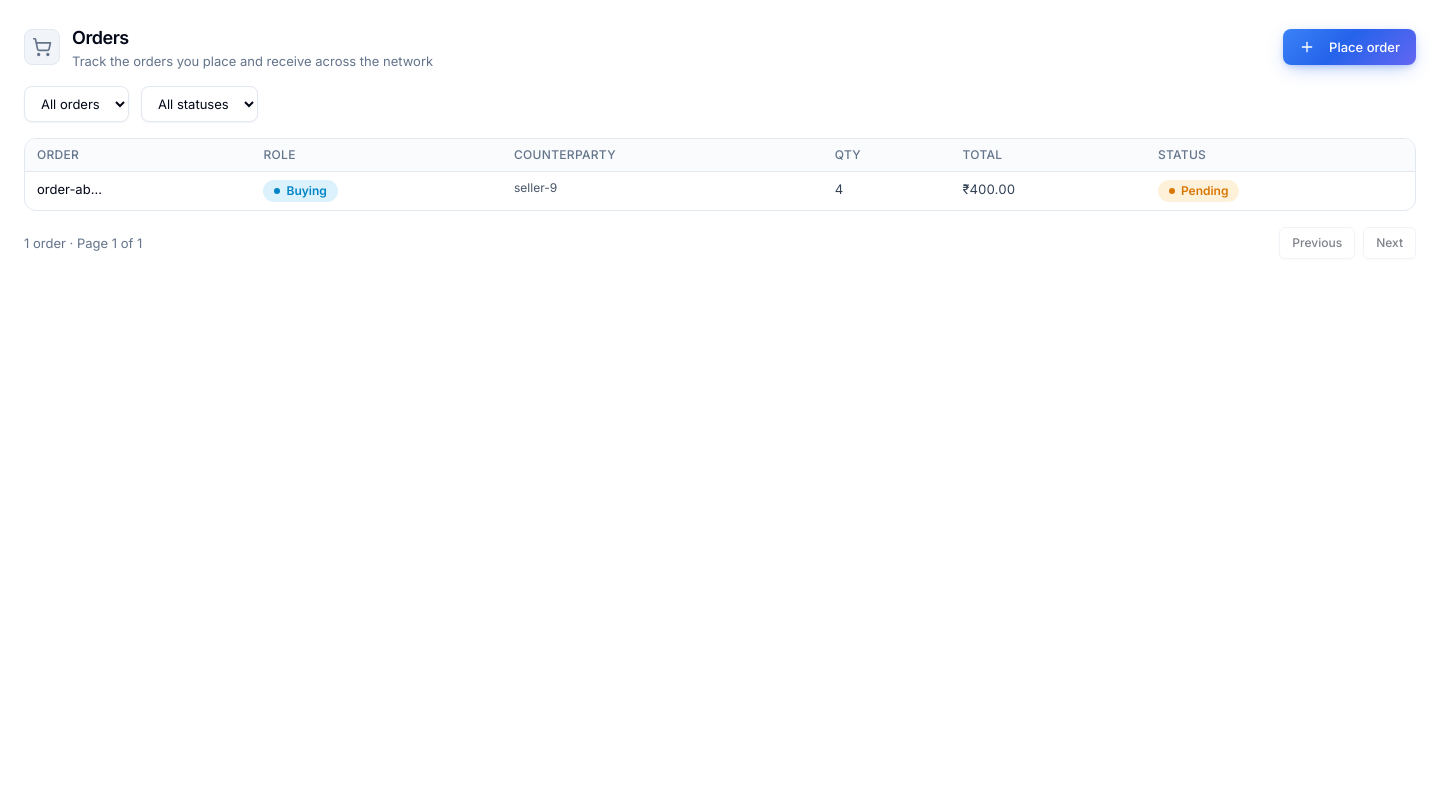
Scenario: OrdersView › opens the place-order form
Click the button "Place order" at (1350, 47), box [1283, 29, 1416, 65]
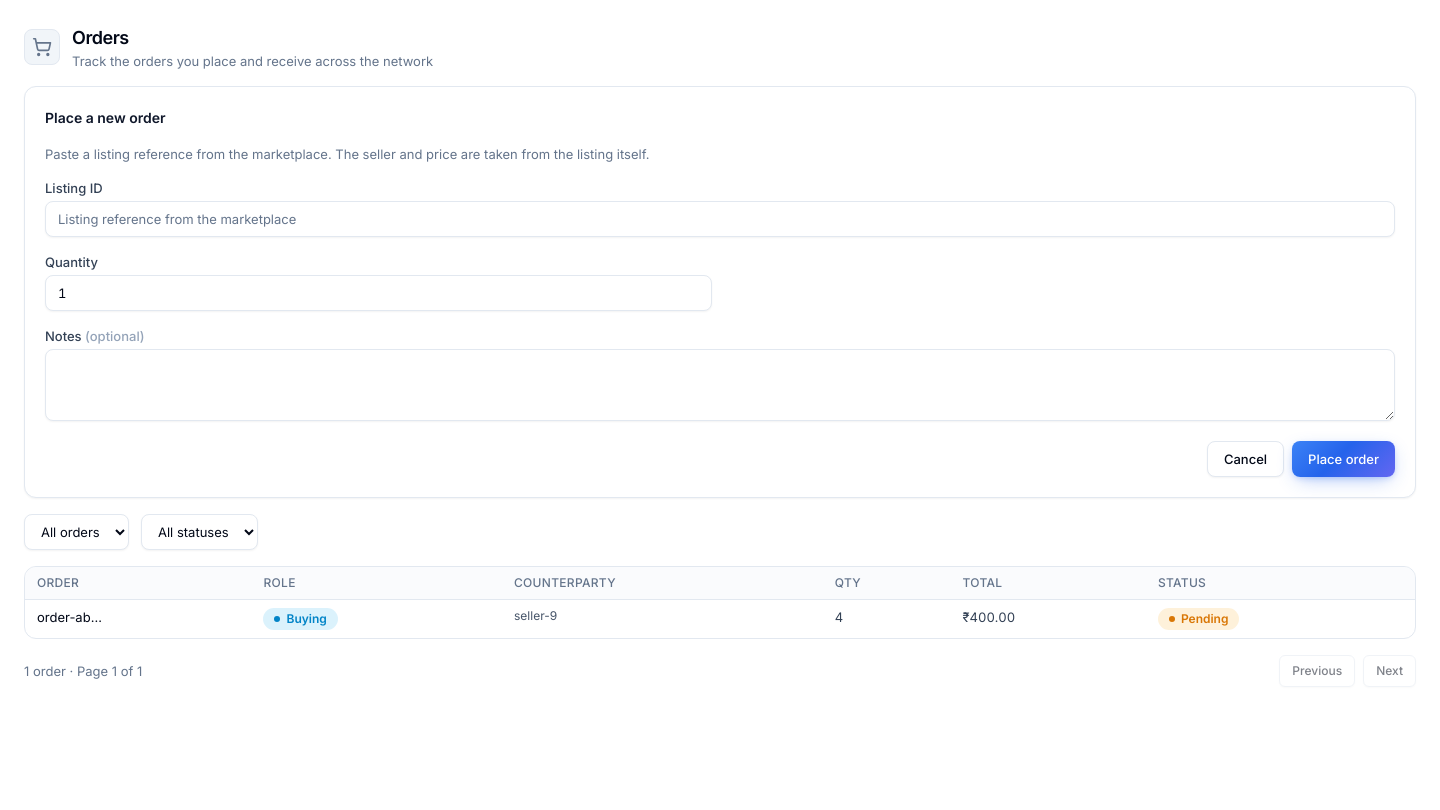
Expected: the form named "place order" is shown, [24, 86, 1416, 498]
